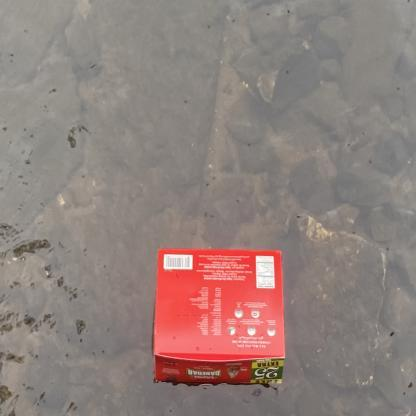trash: (148, 242, 288, 389)
